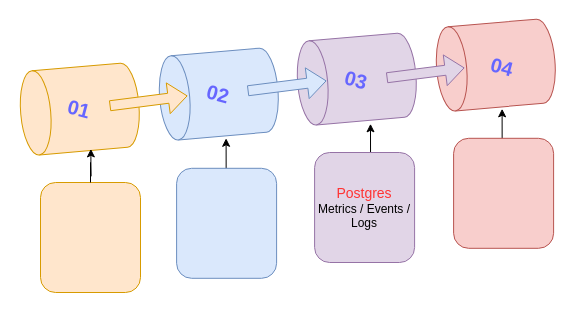
This 577x310 diagram has some shape labels left out. The shapes that lost their labels are listed below. From the top down, each one's centre as x and y in pixels, then its label:
At (503,192): "API / UI REST + SSE Dashboards".
At (90,237): "Orchestrator CPU / Memory /Disk / Services /Network".
At (226,222): "Remediator Normalise / Detection / Rules".
